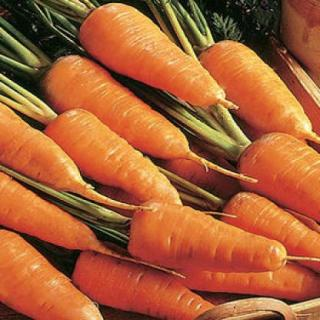Wortel: (74, 3, 235, 114), (40, 55, 197, 162)
